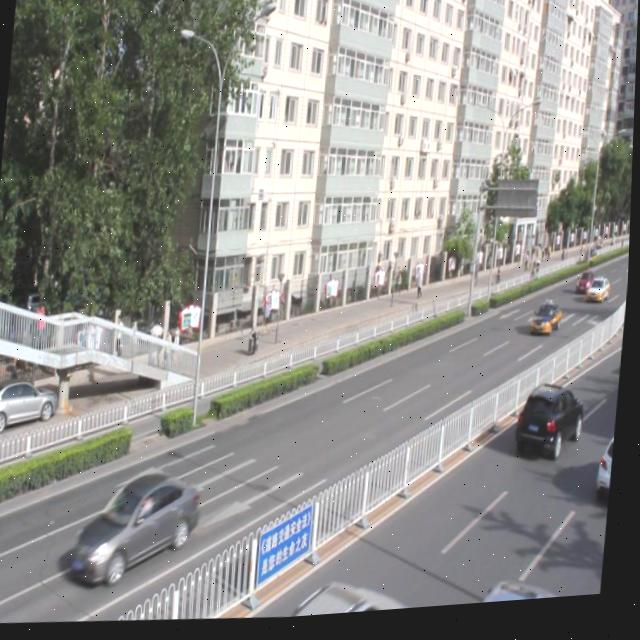car: (72, 466, 209, 587), (515, 387, 587, 468), (298, 577, 417, 622), (477, 576, 572, 611), (596, 440, 619, 512), (532, 305, 565, 345)
